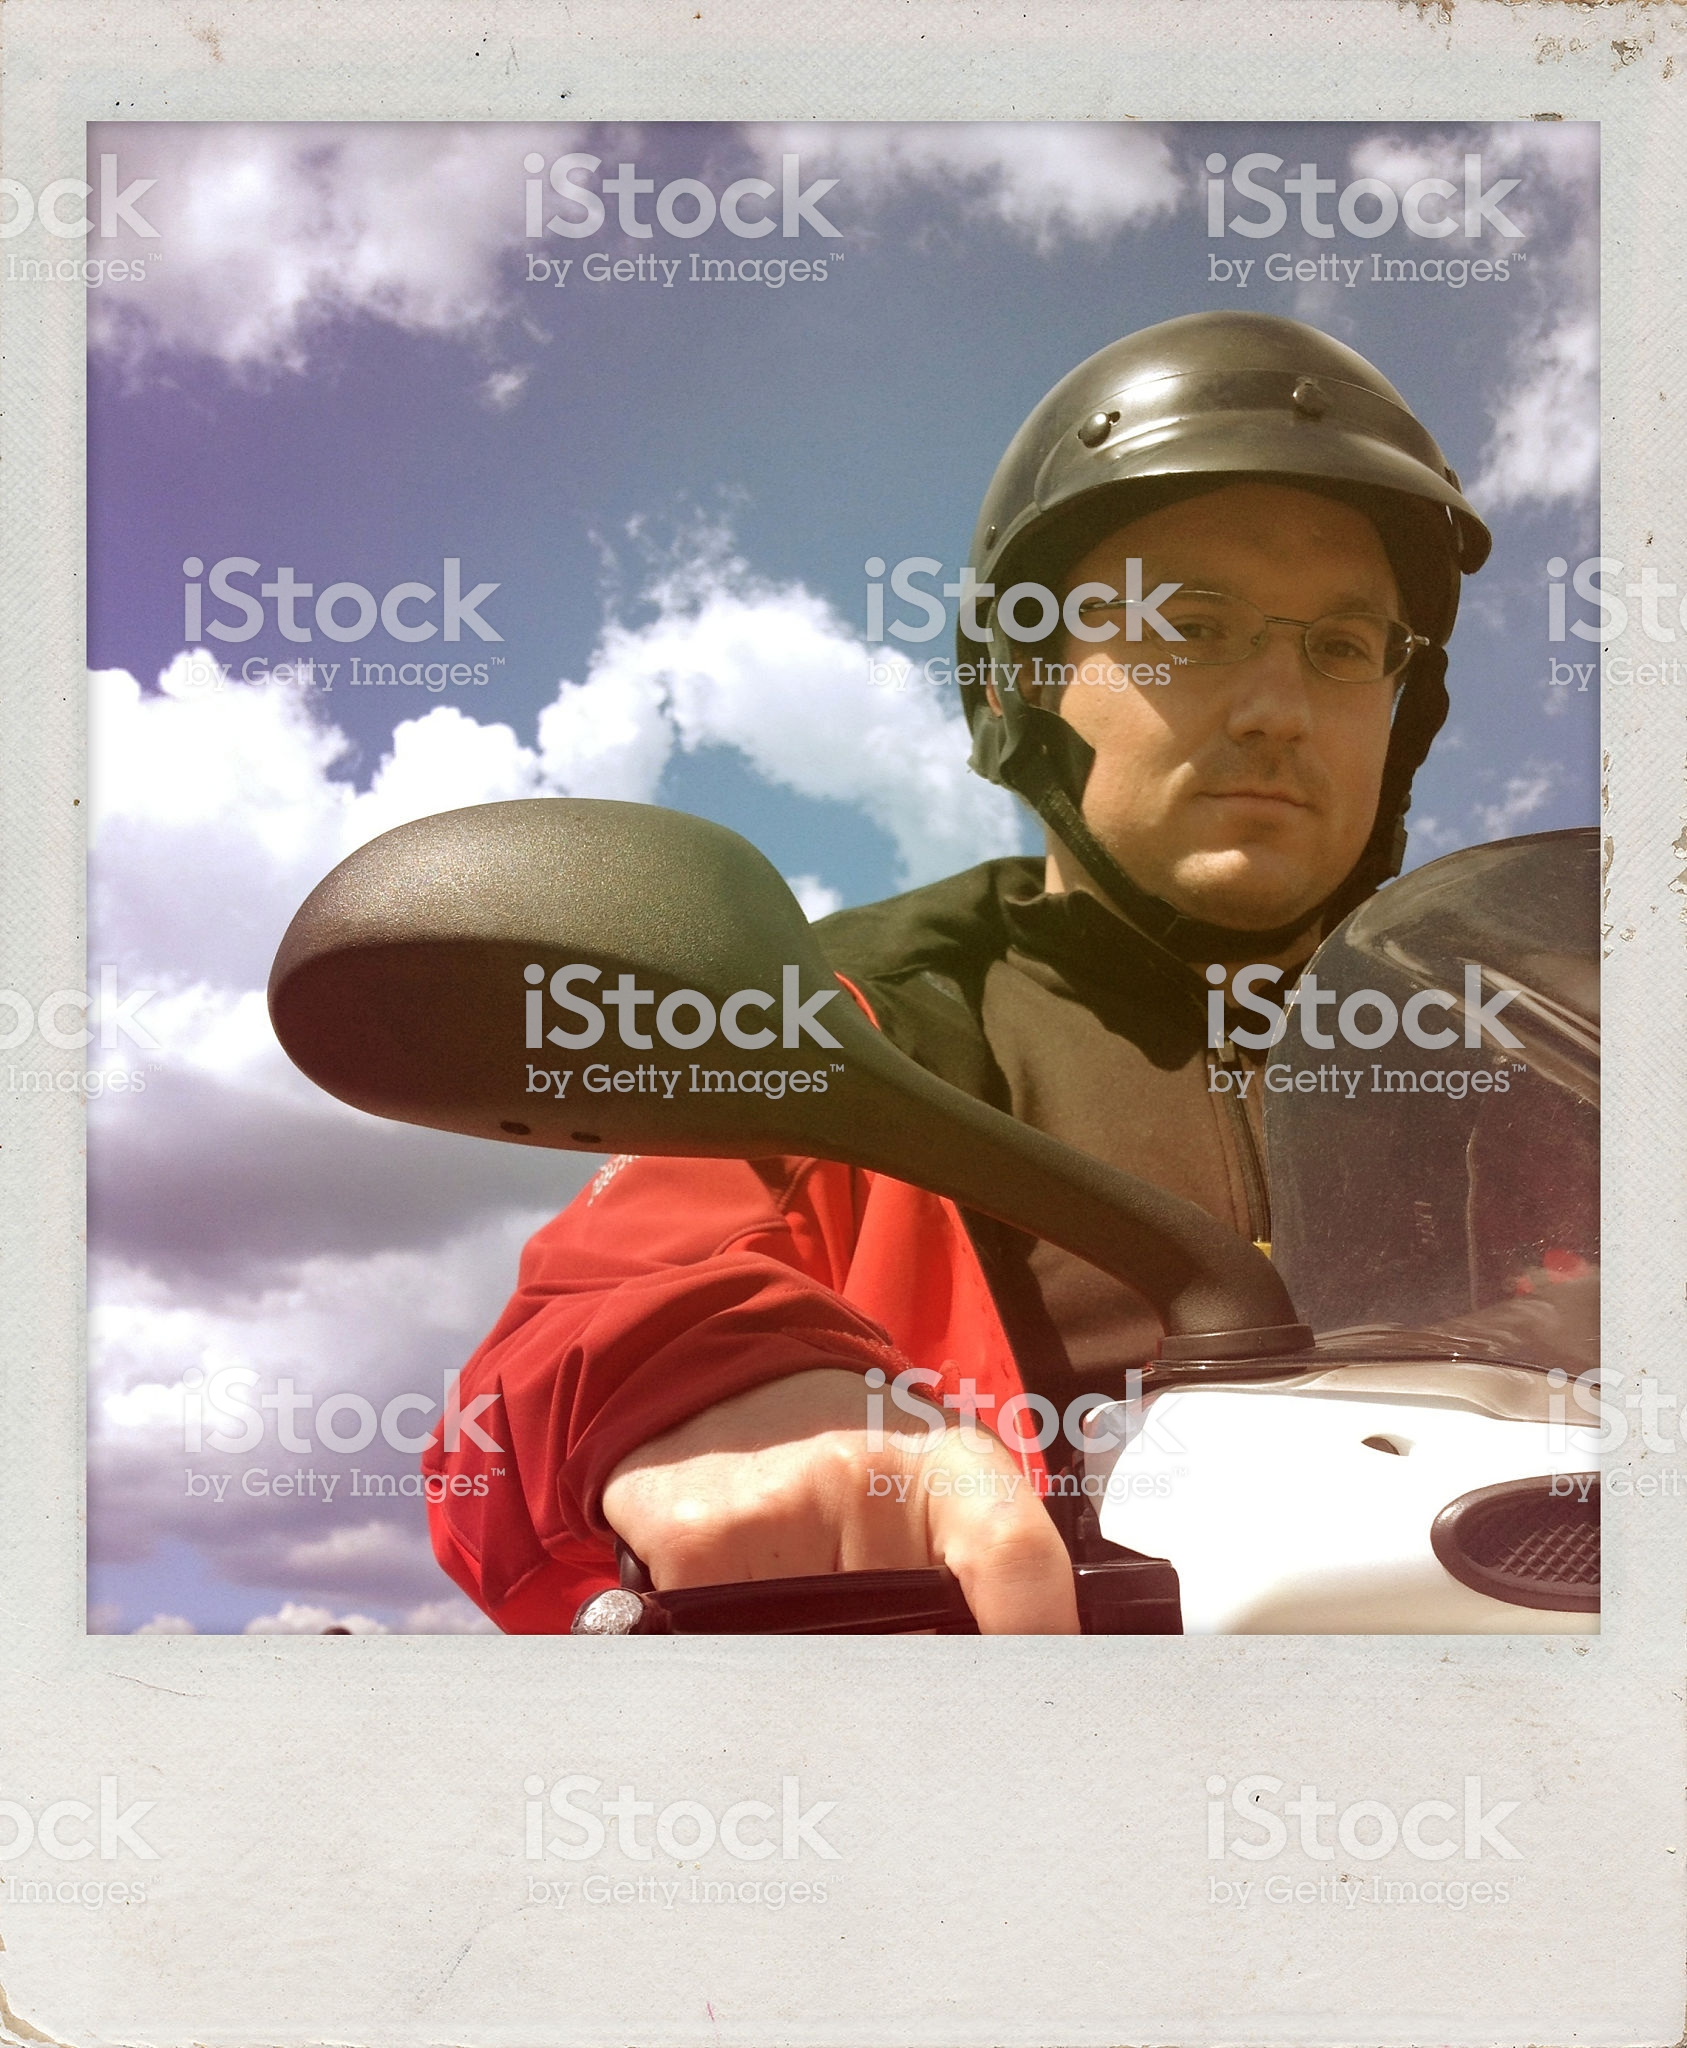helmet: (915, 265, 1515, 641)
